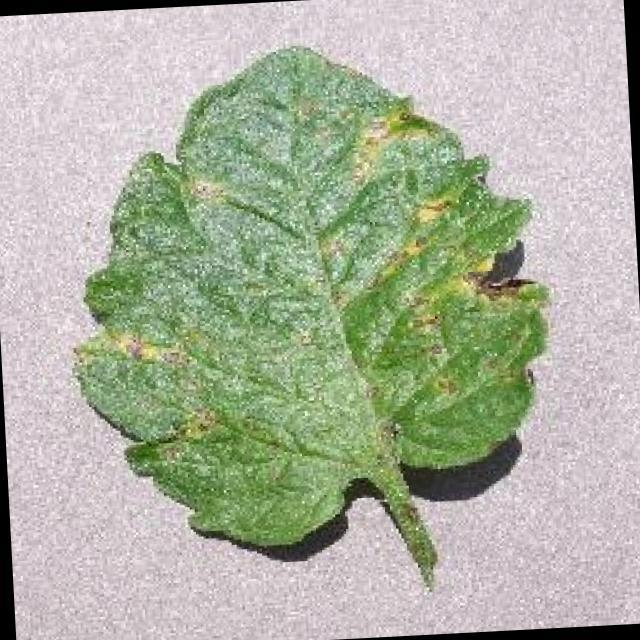Tomato Septoria spot leaf: (58, 31, 566, 562)
